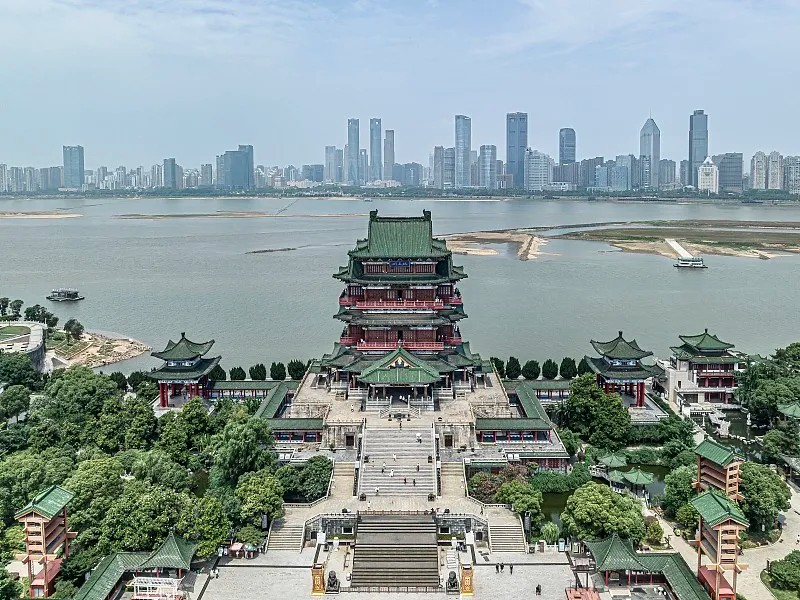Teng: (308, 210, 492, 403)
